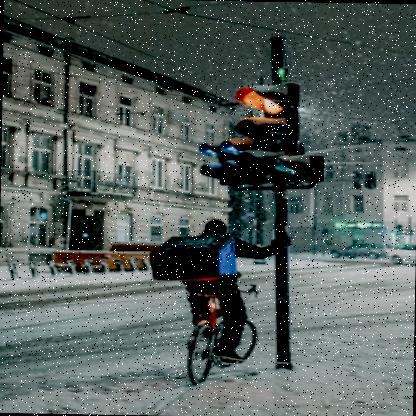trafficlight: (233, 78, 304, 184)
